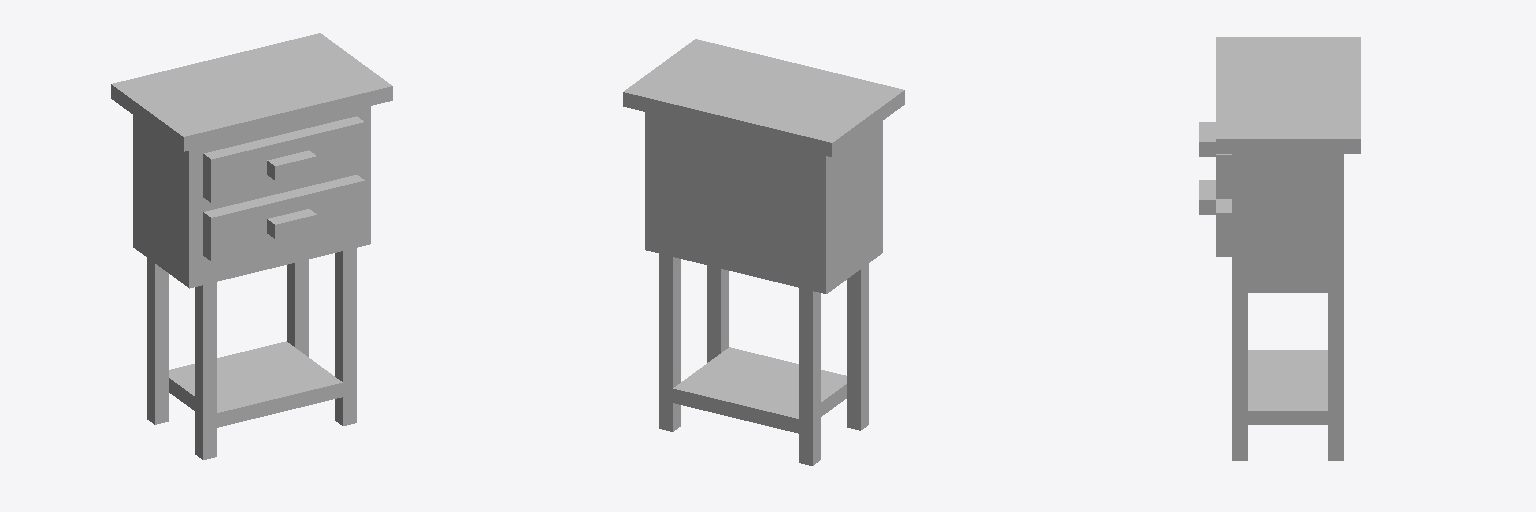
The model's file is stand.obj.
3 views of the same model, side by side, from view 1: azimuth 30°, elevation 25°; view 2: azimuth 150°, elevation 25°; view 3: azimuth 270°, elevation 25° (orthographic).
Parts seen in each view (by area): view 1: object 1; view 2: object 1; view 3: object 1.
Boxes of the visible parts, <box> form: object 1: <box>111,33,392,459</box>; object 1: <box>623,39,904,465</box>; object 1: <box>1199,37,1360,460</box>.
Size of the model in its own units: 1.5 by 2.3 by 1.